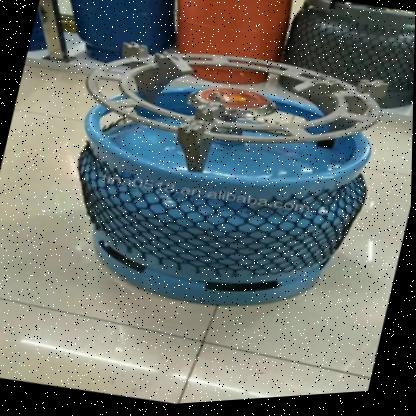gas-tank: (2, 46, 414, 366), (262, 0, 415, 130), (139, 0, 311, 113), (34, 0, 212, 89)
